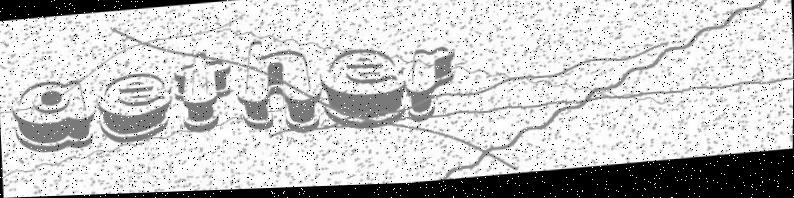a: (9, 76, 98, 156)
e: (316, 45, 410, 138), (94, 70, 173, 147)
h: (232, 36, 326, 141)
r: (402, 46, 460, 128)
t: (172, 50, 234, 137)
